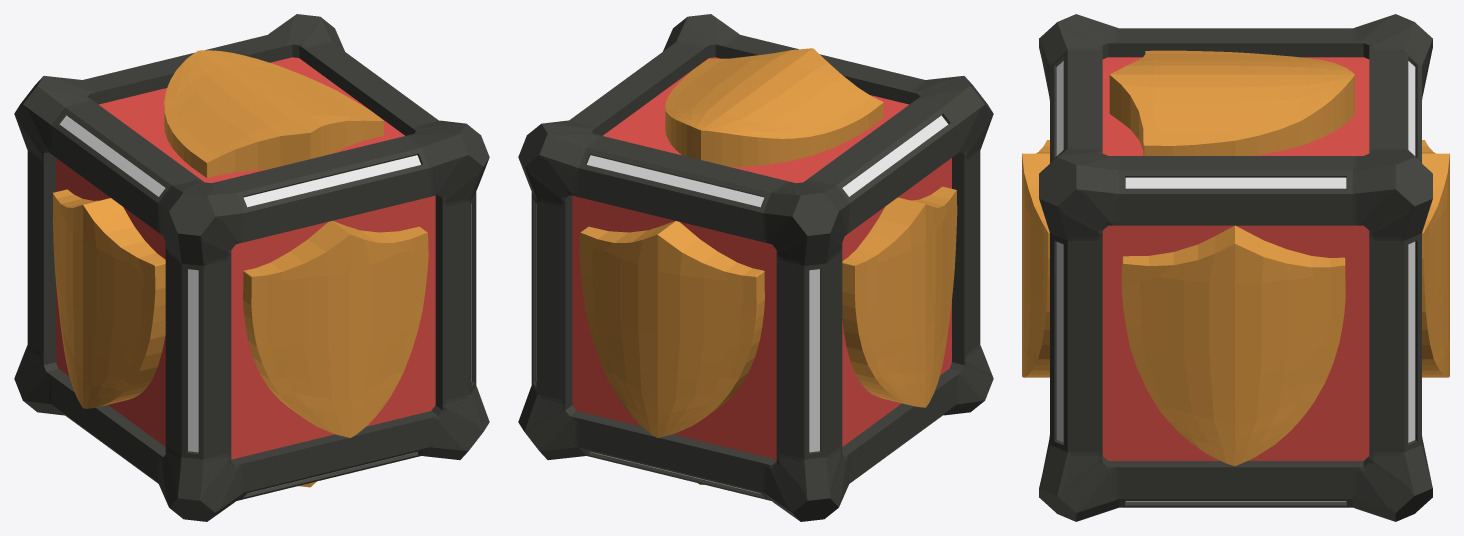
The model's file is PR_BOX_SHIELD.fbx.
3 renders of one model, left to right at view 1: azimuth 30°, elevation 25°; view 2: azimuth 150°, elevation 25°; view 3: azimuth 270°, elevation 25°, orthographic. The views are drawn at different scales.
Parts seen in each view (by area): view 1: Cubo_low, Escudos_low, Base_low, Light_low; view 2: Cubo_low, Escudos_low, Base_low, Light_low; view 3: Cubo_low, Escudos_low, Base_low, Light_low.
Boxes of the visible parts, x1,y1,x2,y2 form: Cubo_low: (14, 14, 489, 521); Escudos_low: (52, 50, 428, 487); Base_low: (56, 57, 435, 459); Light_low: (59, 115, 471, 493); Cubo_low: (518, 14, 993, 521); Escudos_low: (579, 48, 957, 484); Base_low: (572, 57, 951, 459); Light_low: (536, 115, 948, 493); Cubo_low: (1039, 14, 1432, 521); Escudos_low: (1022, 50, 1449, 466); Base_low: (1102, 57, 1369, 460); Light_low: (1056, 61, 1415, 502).
Bounding box in the file's own units: 230 × 230 × 230.
